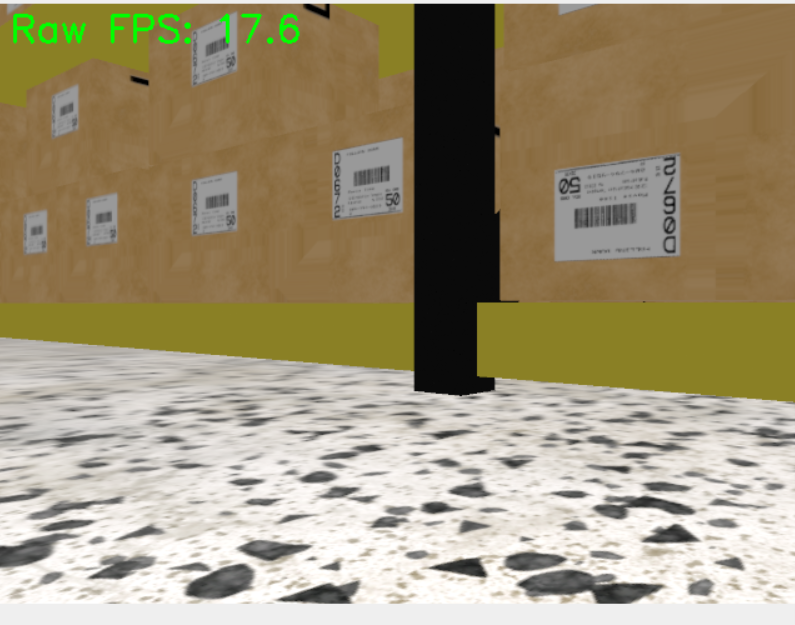barcode: (552, 151, 682, 262), (330, 138, 407, 221), (192, 170, 240, 238), (83, 193, 120, 246), (51, 86, 80, 135), (22, 209, 48, 256)
